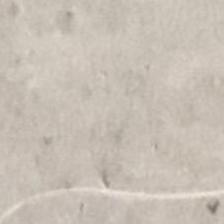Non_Crack: (15, 40, 224, 152)
